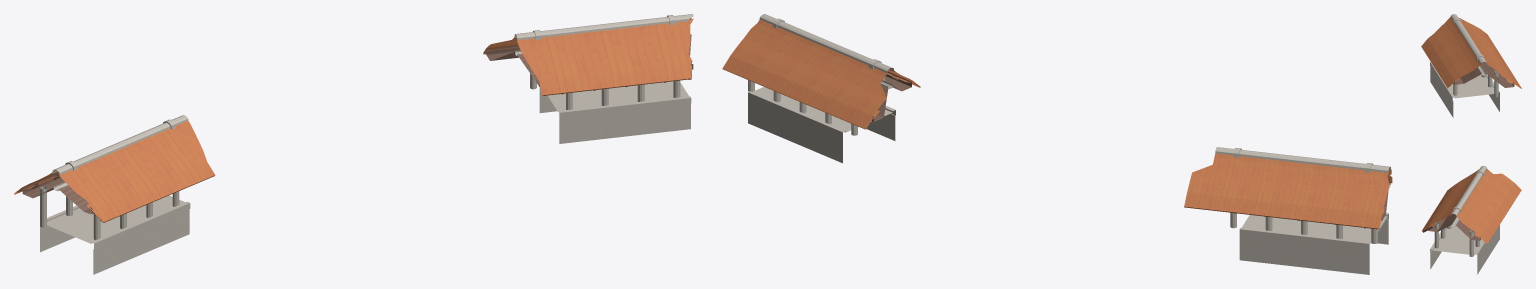
File: SM_ENV_TCHEXA_Building_C.fbx
3 views of the same model, side by side, from view 1: azimuth 30°, elevation 25°; view 2: azimuth 150°, elevation 25°; view 3: azimuth 270°, elevation 25° (orthographic). The views are drawn at different scales.
Parts seen in each view (by area): view 1: SM_ENV_TCHEXA_Building_C.mo; view 2: SM_ENV_TCHEXA_Building_C.mo; view 3: SM_ENV_TCHEXA_Building_C.mo.
Part boxes in pixels (x1,y1,x2,y2): SM_ENV_TCHEXA_Building_C.mo: (14, 14, 693, 274); SM_ENV_TCHEXA_Building_C.mo: (722, 14, 1392, 274); SM_ENV_TCHEXA_Building_C.mo: (1421, 14, 1521, 274).
Bounding box in the file's own units: 6819 × 955 × 1385.
